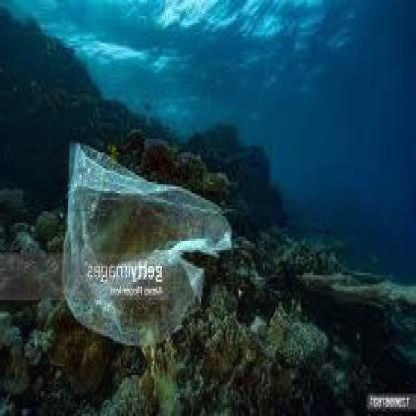pbag: (60, 141, 233, 350)
